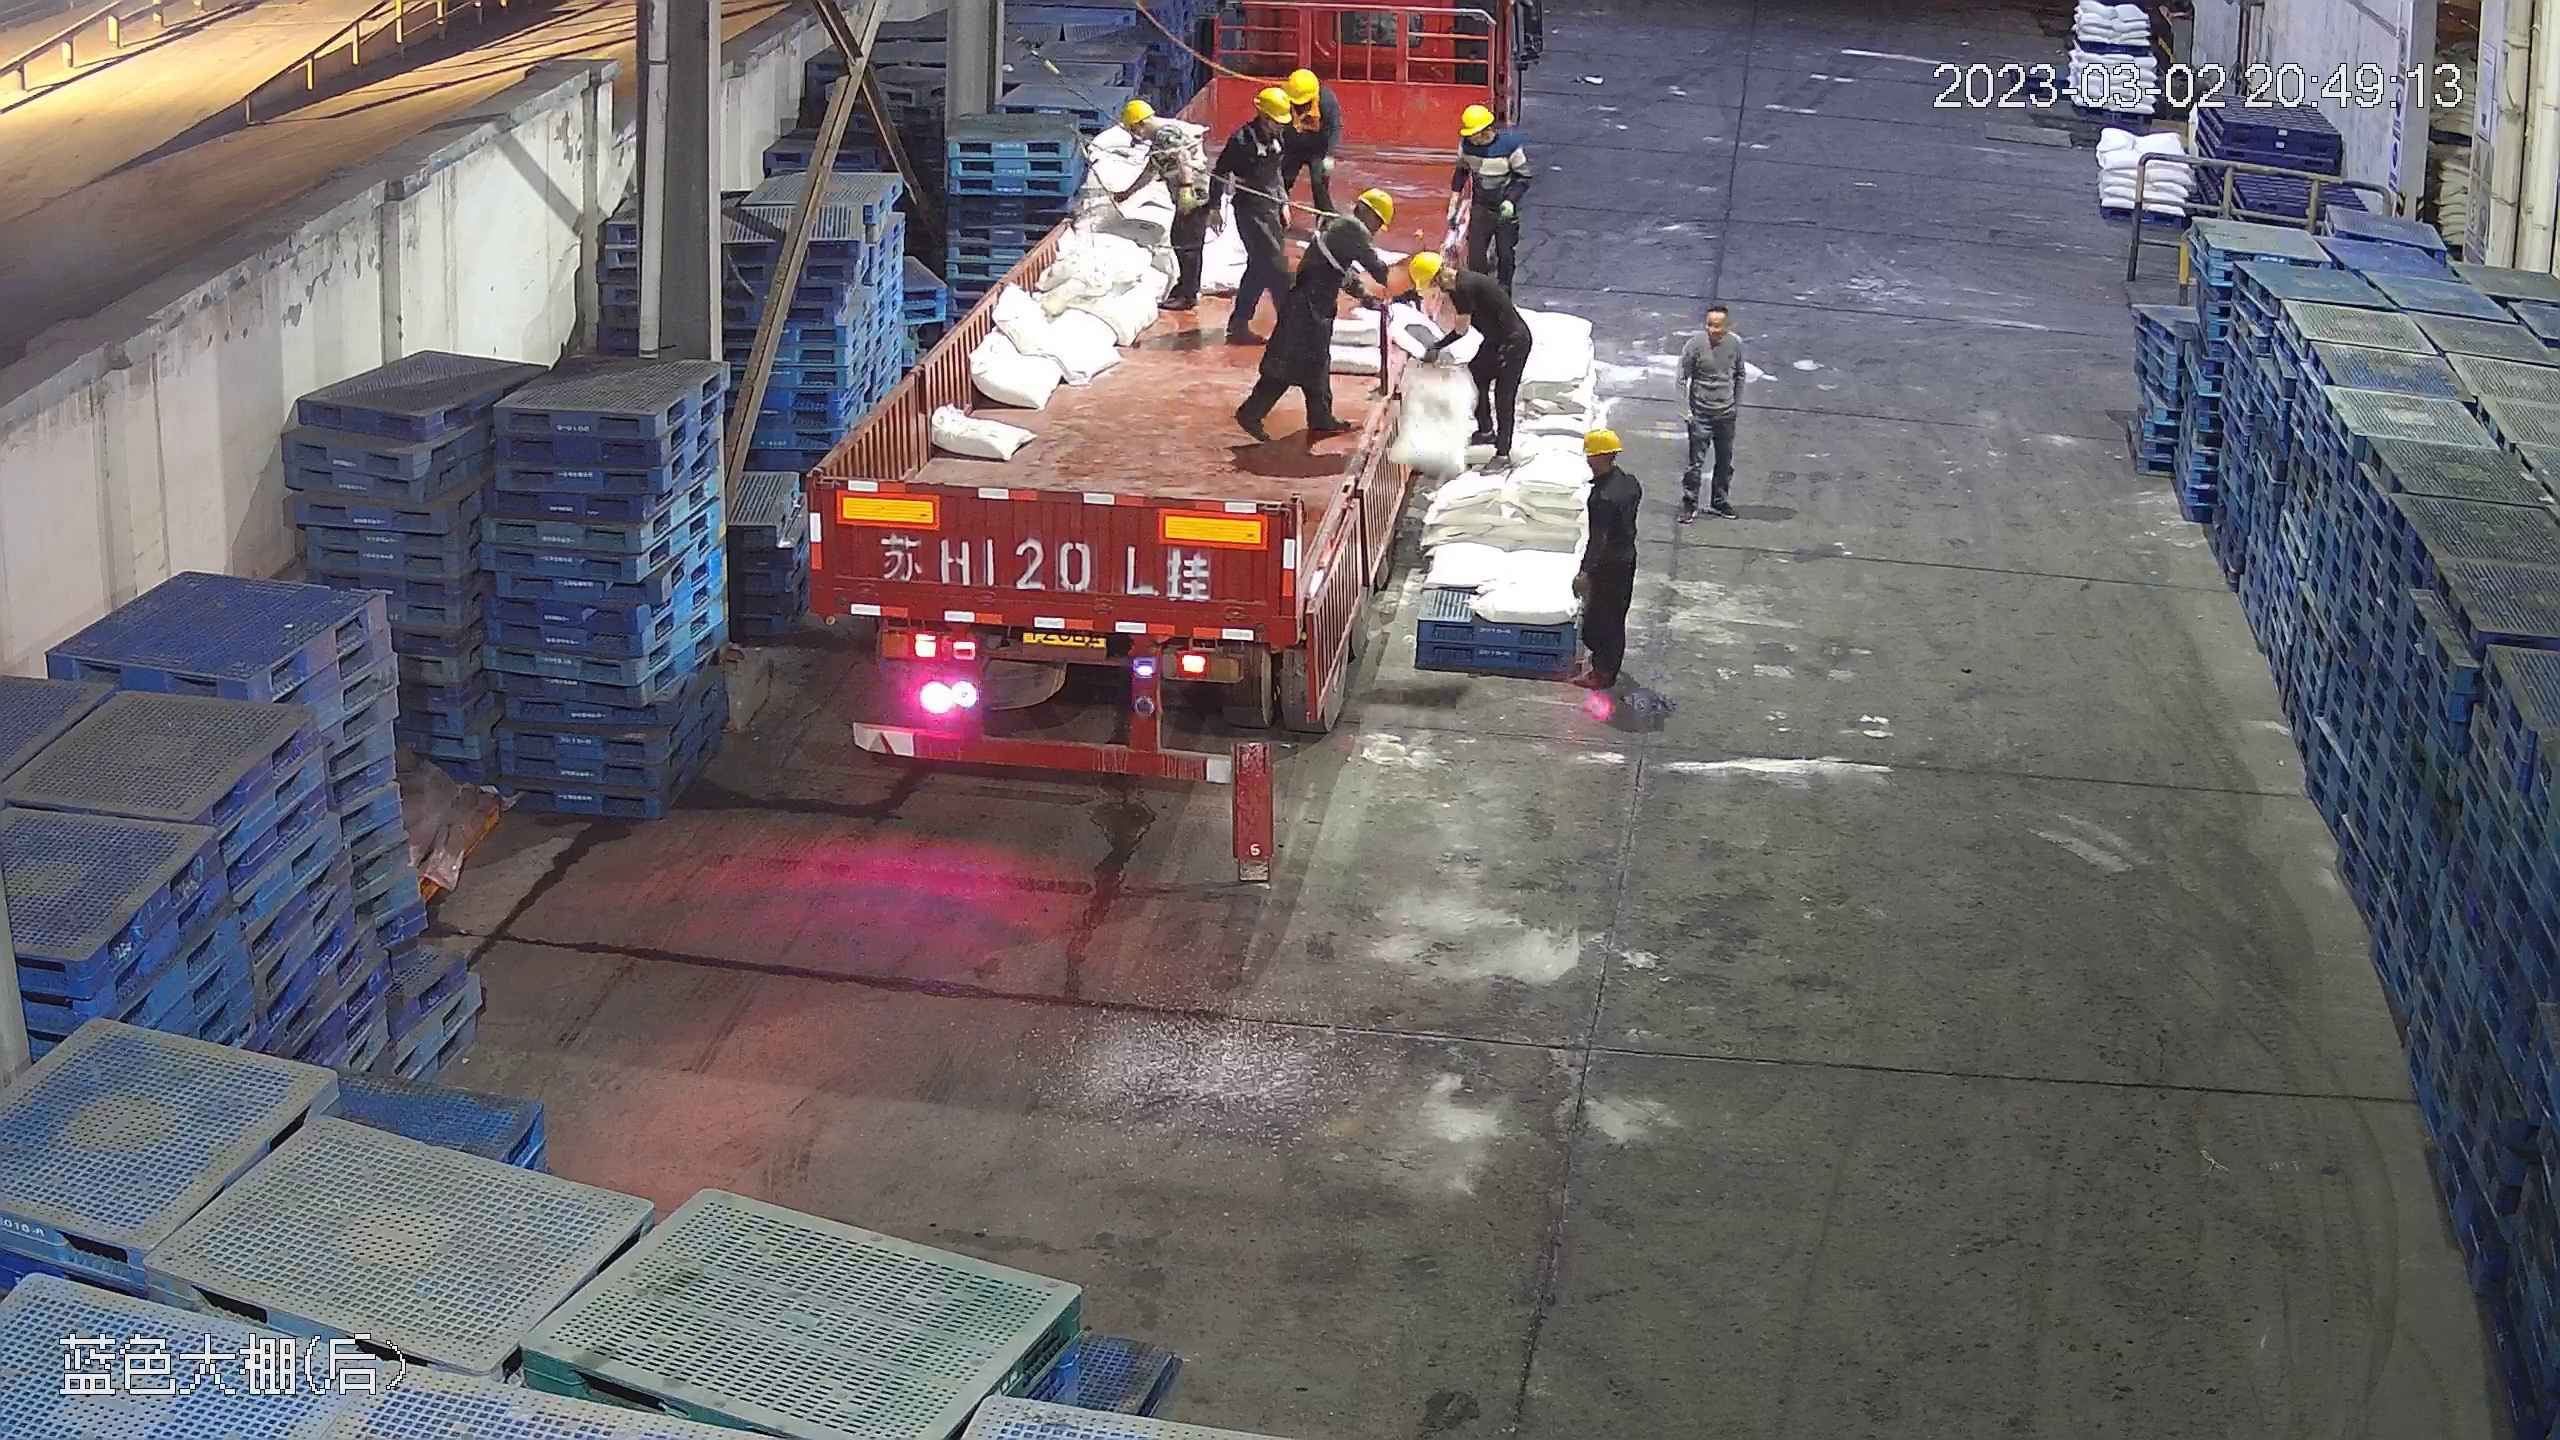belt: (1299, 207, 1370, 276), (1150, 120, 1204, 184), (1234, 112, 1295, 167), (1289, 99, 1326, 135)
head: (1309, 185, 1400, 257), (1413, 253, 1503, 319), (1578, 423, 1640, 510), (1121, 94, 1195, 162), (1457, 104, 1528, 171), (1683, 307, 1746, 370), (1339, 187, 1395, 236)
helmet: (1273, 66, 1321, 113), (1403, 250, 1447, 293), (1356, 186, 1396, 225), (1458, 102, 1497, 136), (1581, 424, 1623, 454), (1119, 94, 1153, 127)
people: (1237, 182, 1404, 445), (1206, 74, 1327, 338), (1397, 248, 1532, 477), (1569, 420, 1647, 716), (1108, 89, 1209, 312), (1665, 309, 1750, 526), (1450, 101, 1531, 300)
truck: (813, 27, 1497, 781)
